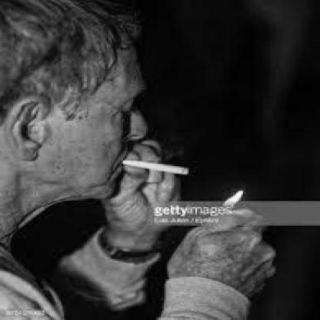Fire: (219, 184, 249, 208)
